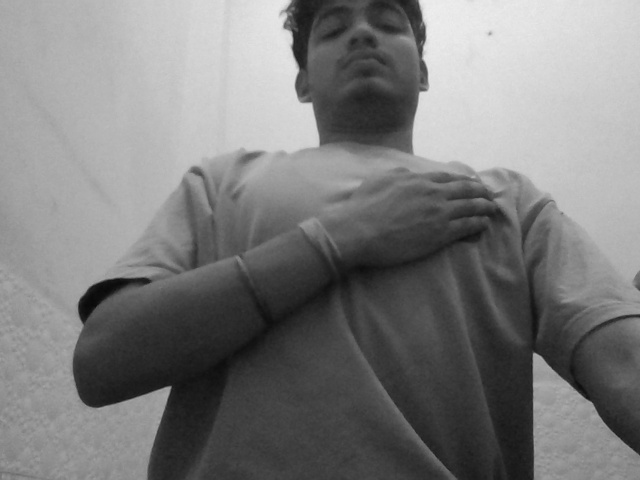Sorry: (304, 155, 519, 294)
